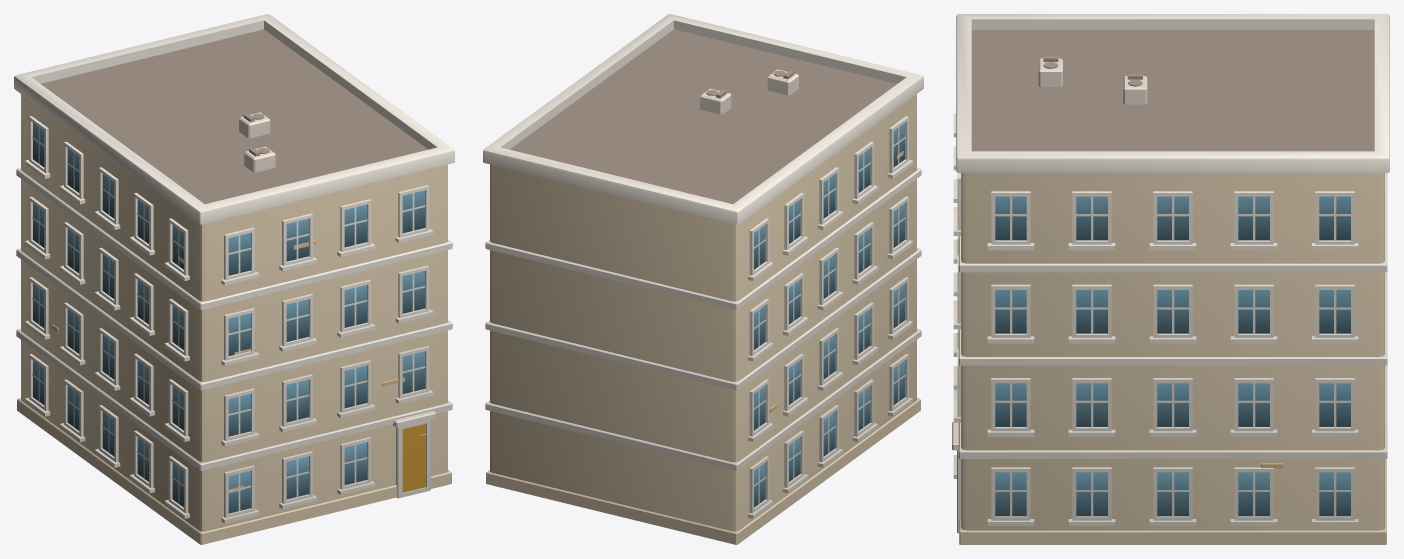
The model's file is boylston_s19.glb.
3 renders of one model, left to right at view 1: azimuth 30°, elevation 25°; view 2: azimuth 150°, elevation 25°; view 3: azimuth 270°, elevation 25°, orthographic. The views are drawn at different scales.
Visible parts, largest first — view 1: boylston_s19; view 2: boylston_s19; view 3: boylston_s19.
Boxes of the visible parts, x1,y1,x2,y2 form: boylston_s19: [14, 14, 454, 544]; boylston_s19: [483, 14, 923, 544]; boylston_s19: [952, 14, 1389, 544].
Size of the model in its own units: 11.48 by 14.51 by 14.46.
Materials: 1 (1 with a texture image).
